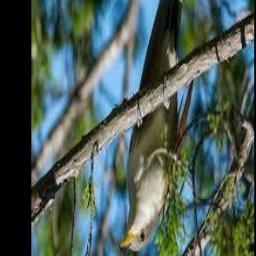Cuckoo: (118, 0, 195, 252)
